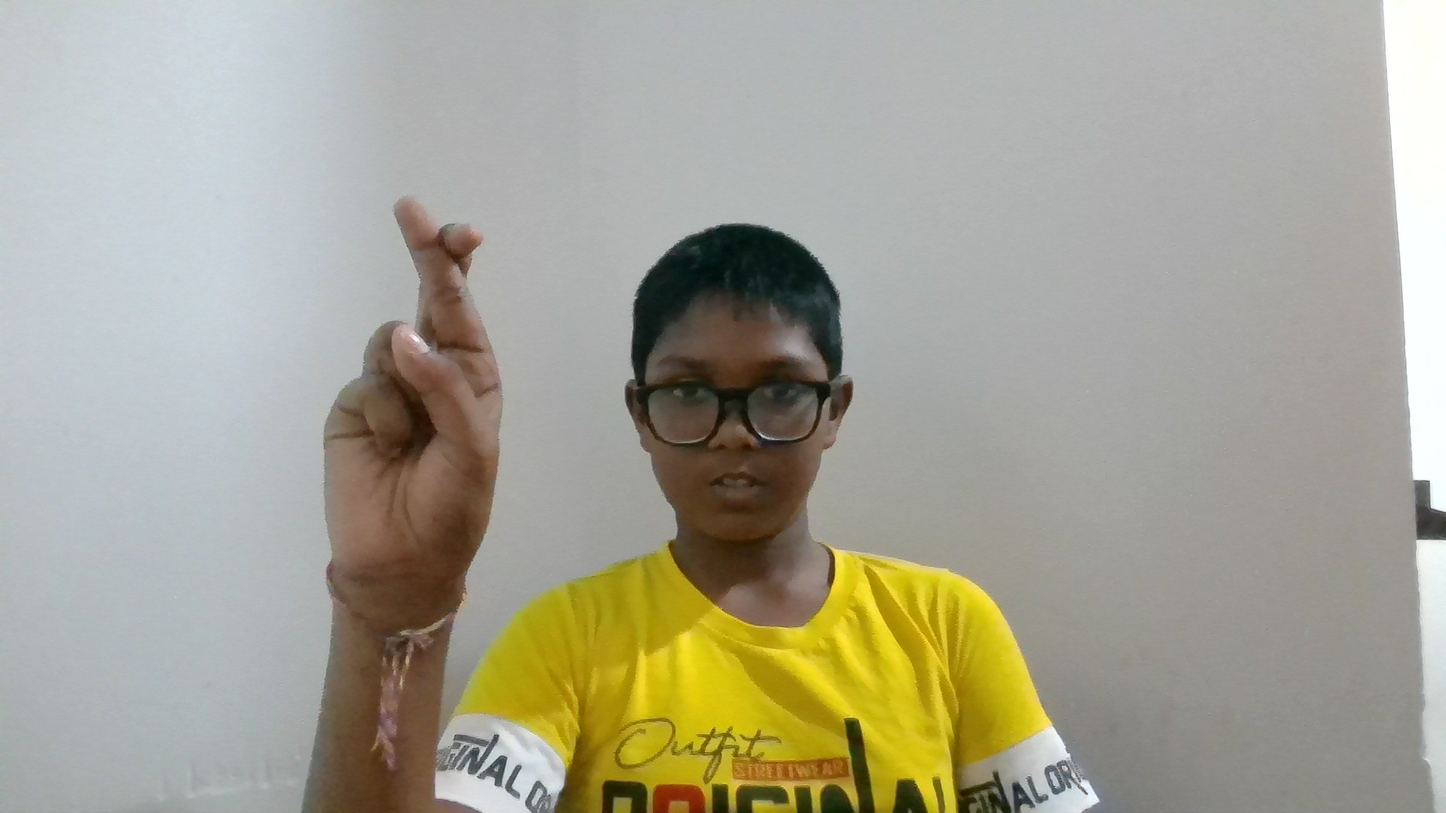Good_Luck: (247, 100, 569, 728)
